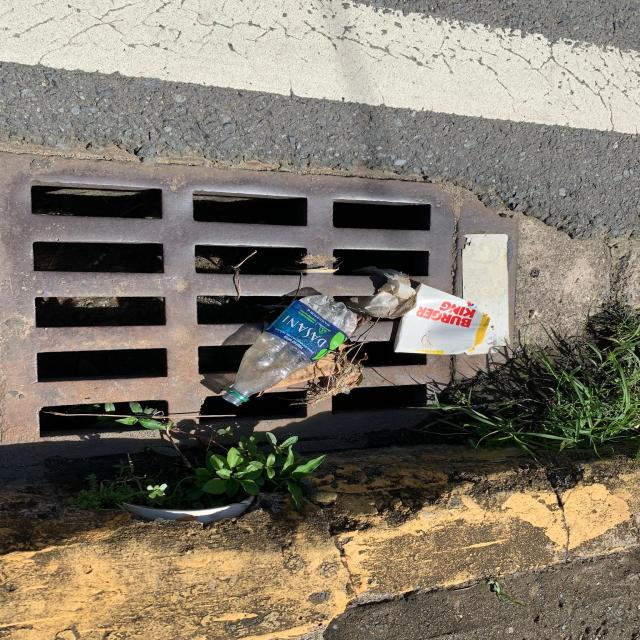litter: (224, 293, 359, 405), (393, 285, 505, 353)
